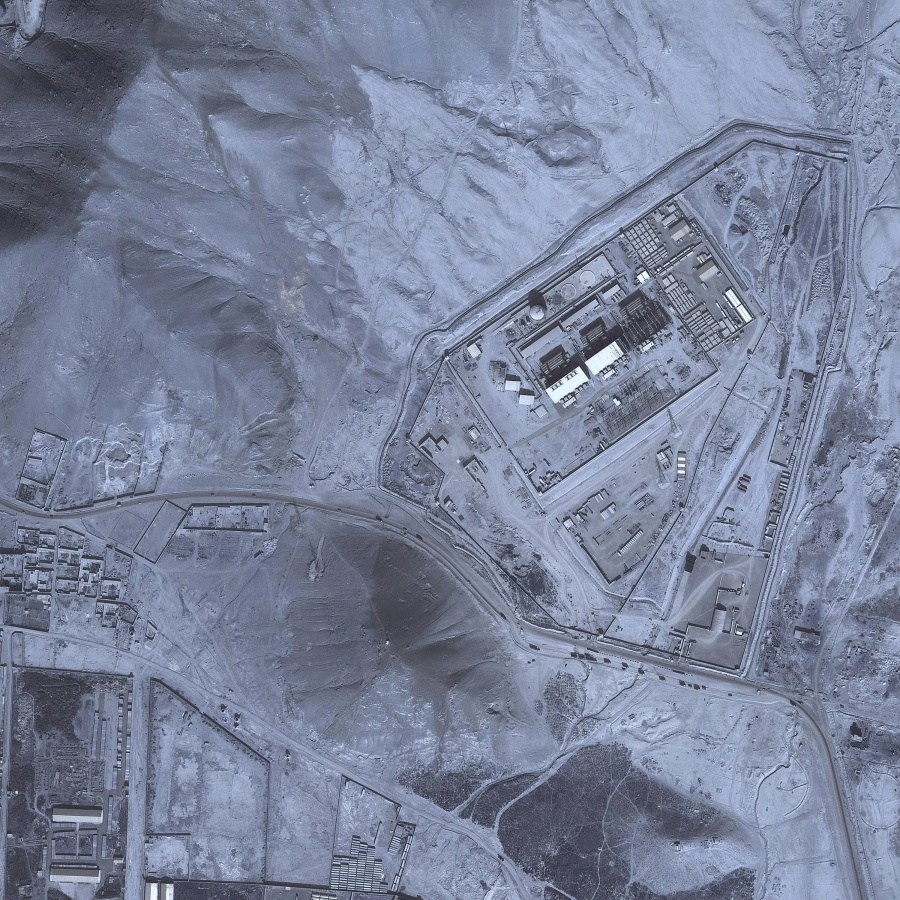PowerPlant: (502, 223, 752, 407)
